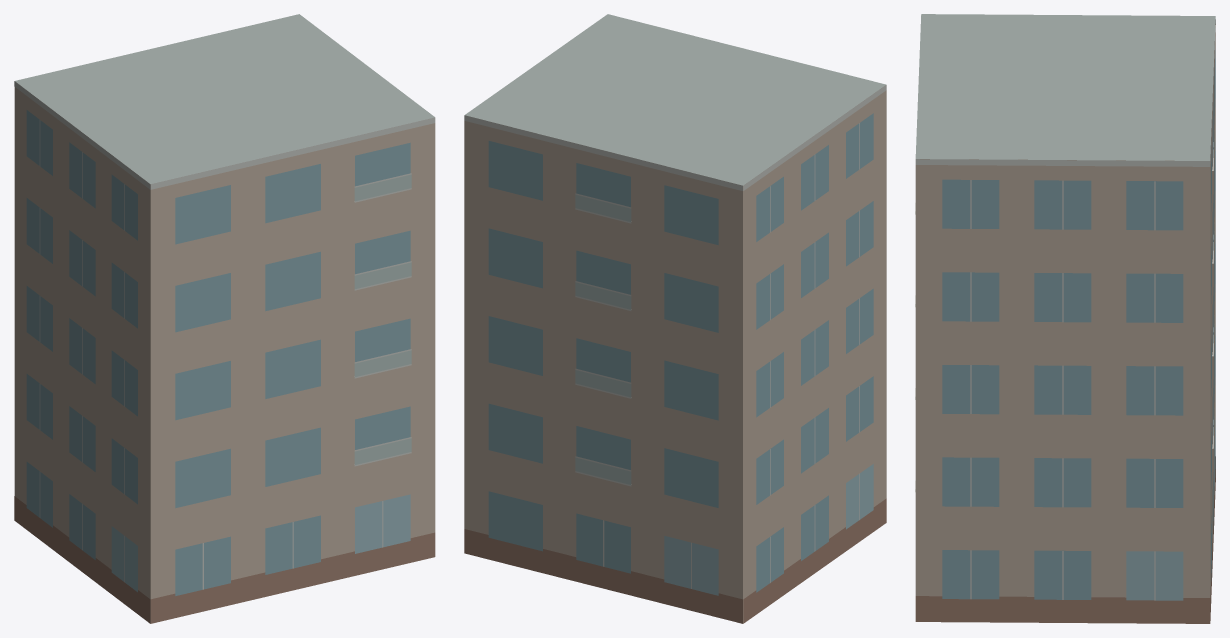
The model's file is survey-upis-32898404.glb.
3 renders of one model, left to right at view 1: azimuth 30°, elevation 25°; view 2: azimuth 150°, elevation 25°; view 3: azimuth 270°, elevation 25°, orthographic. The views are drawn at different scales.
Parts seen in each view (by area): view 1: survey-upis-32898404.tmp; view 2: survey-upis-32898404.tmp; view 3: survey-upis-32898404.tmp.
Boxes of the visible parts, x1,y1,x2,y2 form: survey-upis-32898404.tmp: [14, 14, 435, 623]; survey-upis-32898404.tmp: [464, 14, 886, 623]; survey-upis-32898404.tmp: [915, 14, 1215, 623].
Size of the model in its own units: 13.03 by 19.12 by 11.27.
